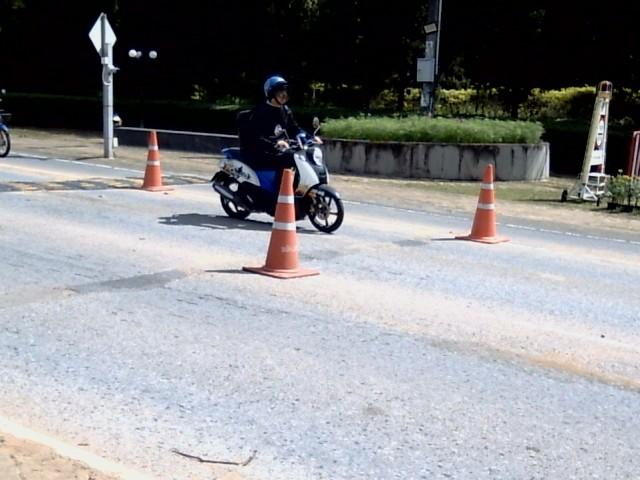helmet: (256, 71, 291, 105)
motor: (289, 117, 343, 232), (210, 147, 279, 219)
person: (239, 76, 302, 186)
